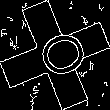O_W: (23, 26, 87, 84)
